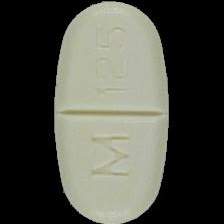43063-119: (0, 0, 224, 224)
